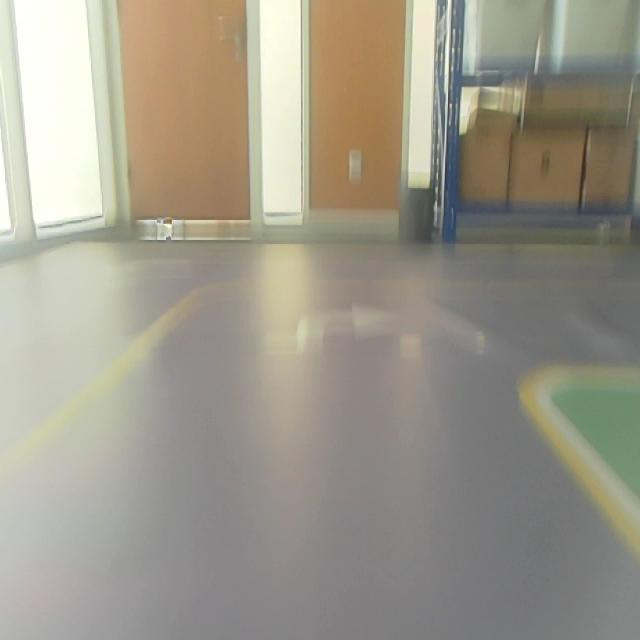left_lane: (1, 292, 215, 482)
right_lane: (520, 388, 640, 567)
